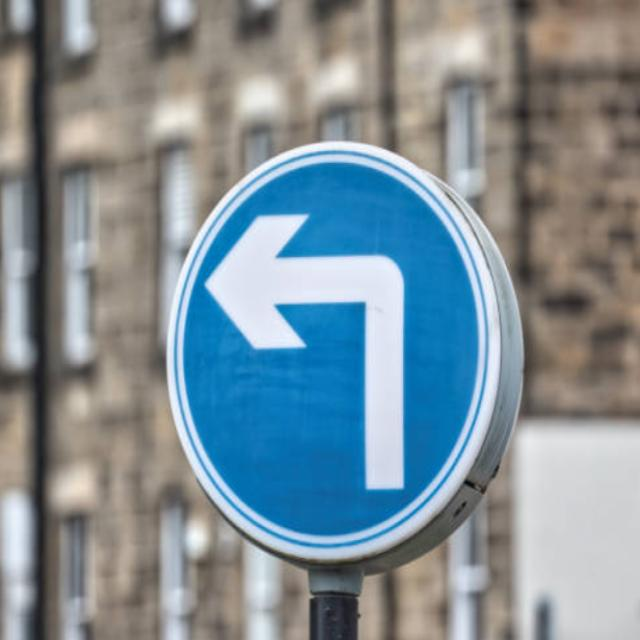LEFT: (167, 142, 522, 617)
